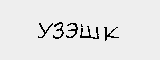З: (51, 20, 64, 41)
К: (103, 22, 119, 44)
У: (32, 18, 54, 39)
Ш: (78, 22, 101, 40)
Э: (64, 18, 77, 39)
